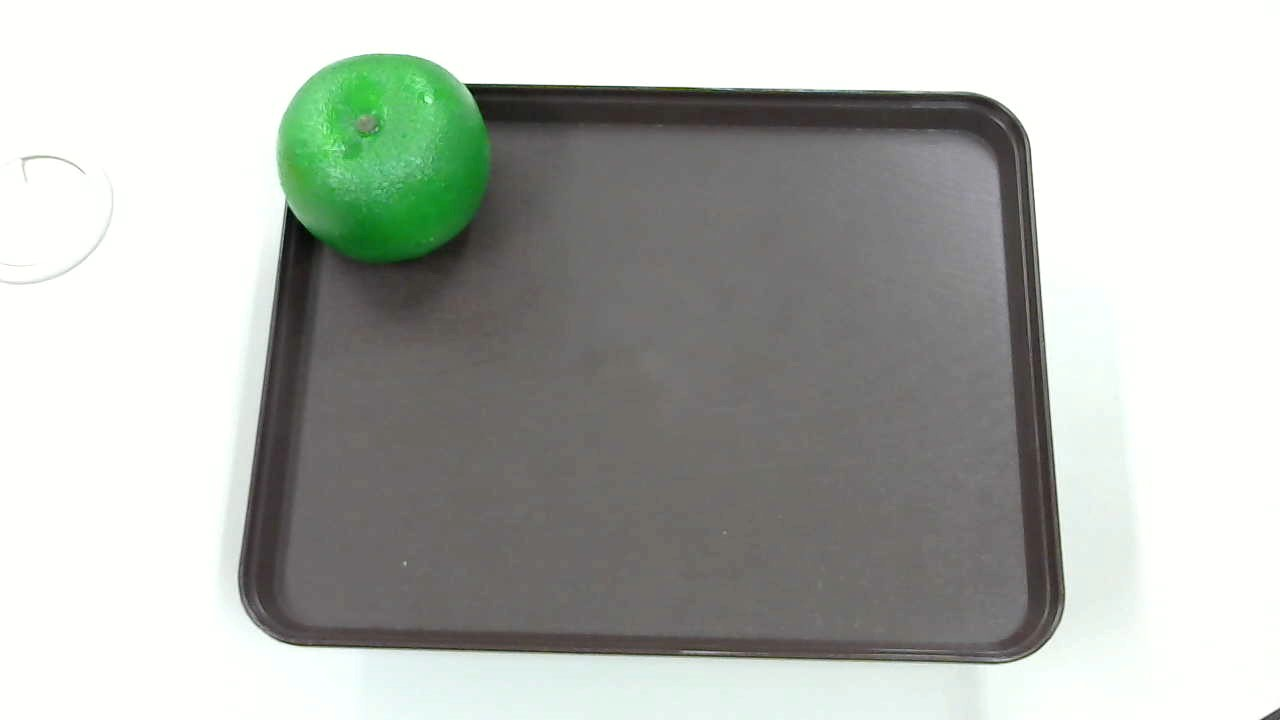green orange: (274, 52, 493, 271)
